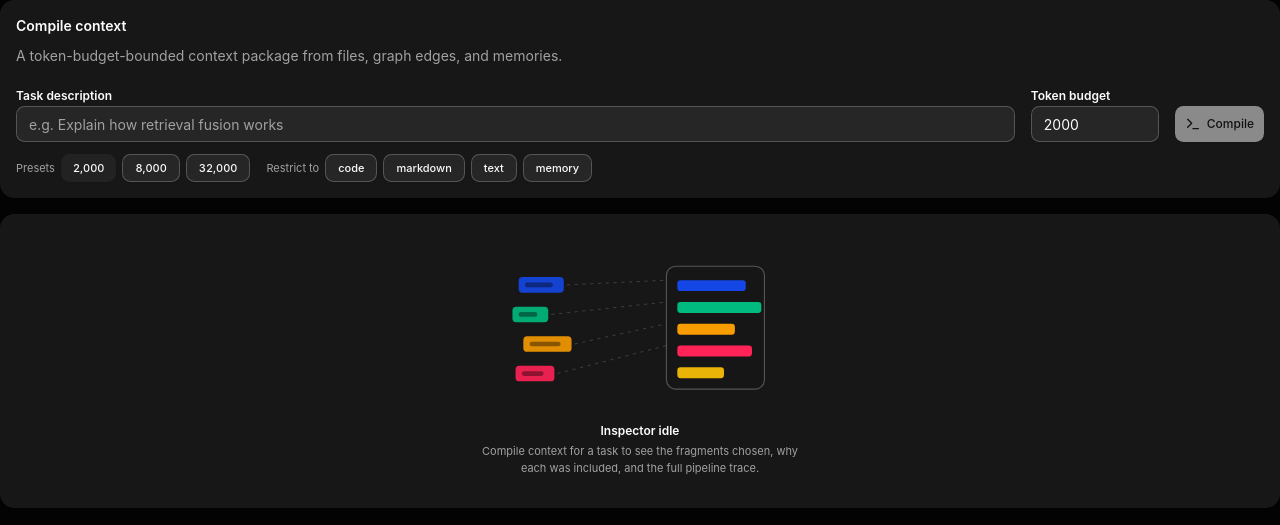
Test: InspectorView › sets the budget from a preset
Click the button "8,000".
click(151, 168)  # box x1=122 y1=154 x2=180 y2=182
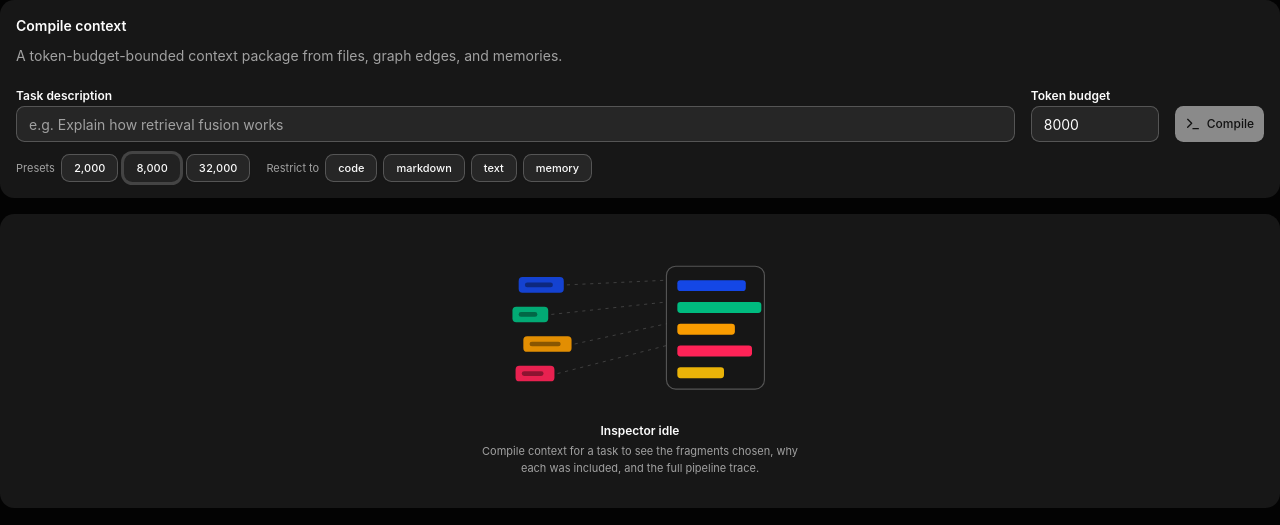
Check: the number field labelled "Token budget" holds "8000", box x1=1031 y1=106 x2=1159 y2=142
